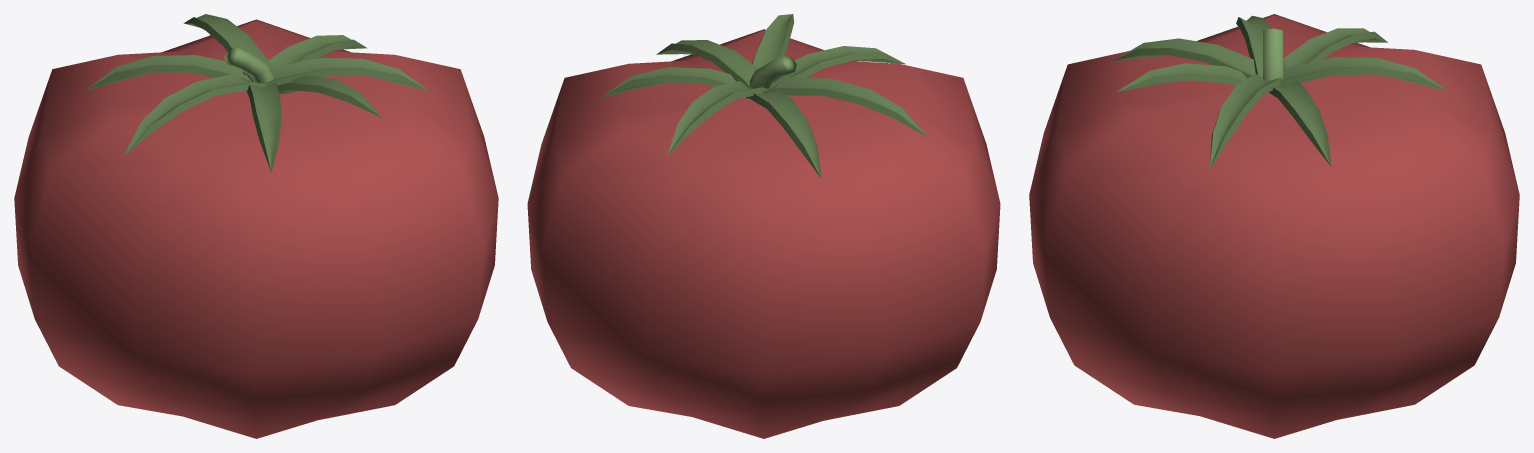
The model's file is Tomato.fbx.
The picture shows the model from 3 angles, left to right: view 1: azimuth 30°, elevation 25°; view 2: azimuth 150°, elevation 25°; view 3: azimuth 270°, elevation 25°; orthographic projection. The views are drawn at different scales.
Parts seen in each view (by area): view 1: Tomato1; view 2: Tomato1; view 3: Tomato1.
Part boxes in pixels (x1,y1,x2,y2): Tomato1: [14, 14, 498, 438]; Tomato1: [527, 14, 1000, 438]; Tomato1: [1029, 14, 1519, 438].
Size of the model in its own units: 0.2949 by 0.2309 by 0.2715.
